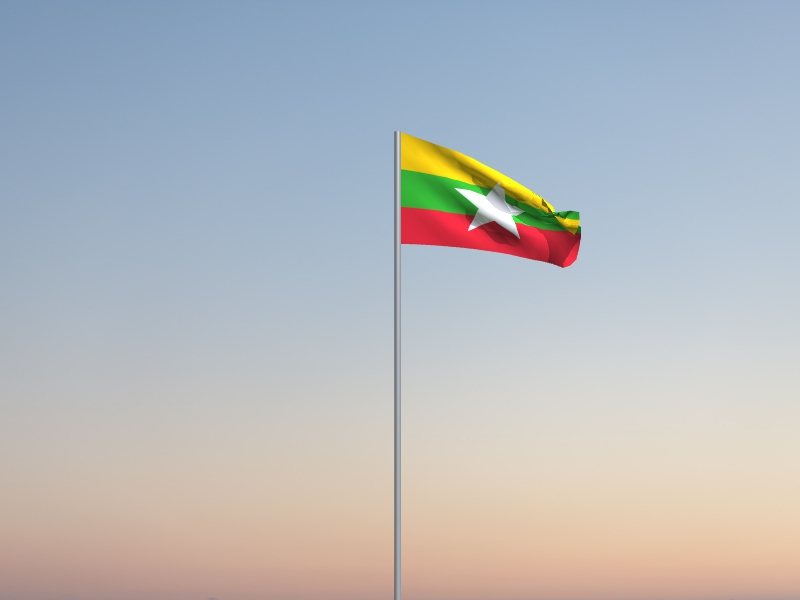mm: (401, 133, 583, 270)
